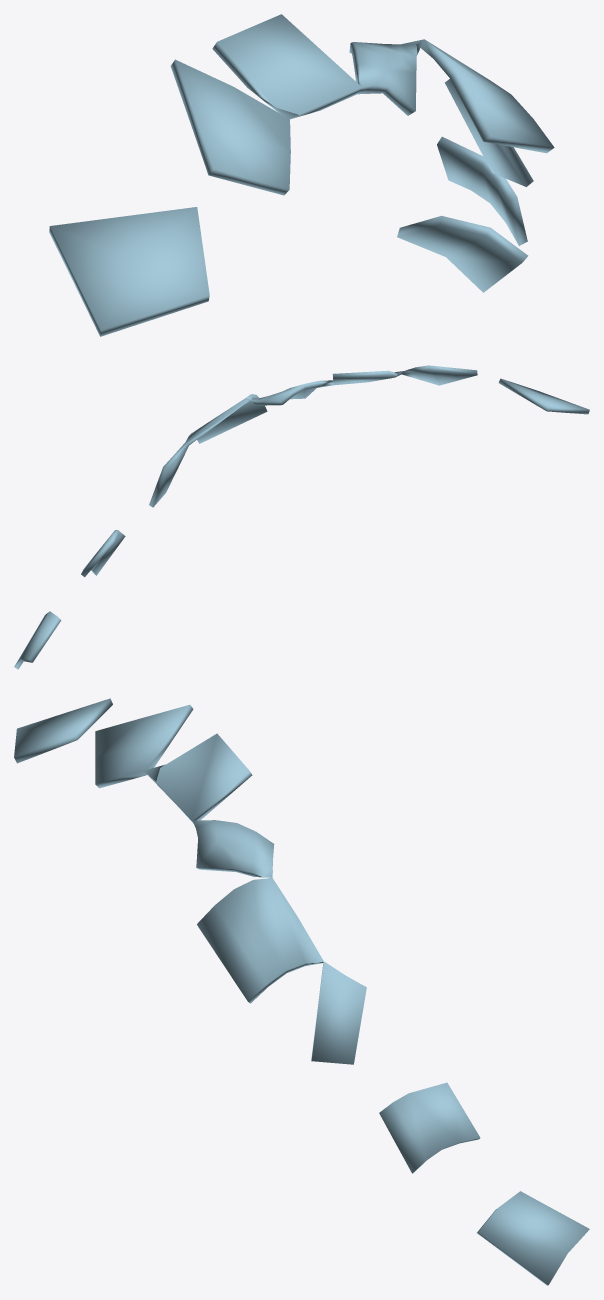
Rendered from articulacoes-dorsal-tarsometatarsal-ligaments-l.glb.
The picture shows the model from 3 angles, top to bottom: view 1: azimuth 30°, elevation 25°; view 2: azimuth 150°, elevation 25°; view 3: azimuth 270°, elevation 25°; orthographic projection. The views are drawn at different scales.
Parts seen in each view (by area): view 1: Dorsal tarsometatarsal ligaments.l; view 2: Dorsal tarsometatarsal ligaments.l; view 3: Dorsal tarsometatarsal ligaments.l.
Boxes of the visible parts, x1,y1,x2,y2 form: Dorsal tarsometatarsal ligaments.l: (49, 14, 554, 336); Dorsal tarsometatarsal ligaments.l: (14, 365, 589, 669); Dorsal tarsometatarsal ligaments.l: (14, 698, 589, 1285).
Size of the model in its own units: 0.0441 by 0.0306 by 0.041.
